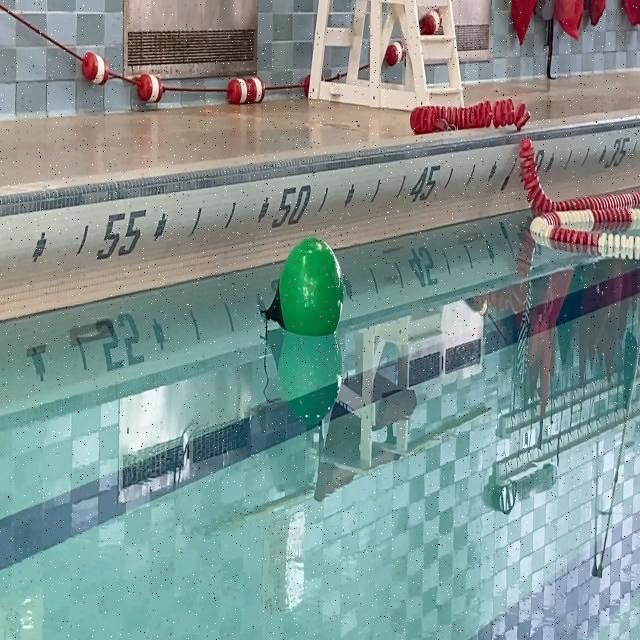buoy: (260, 235, 342, 337)
